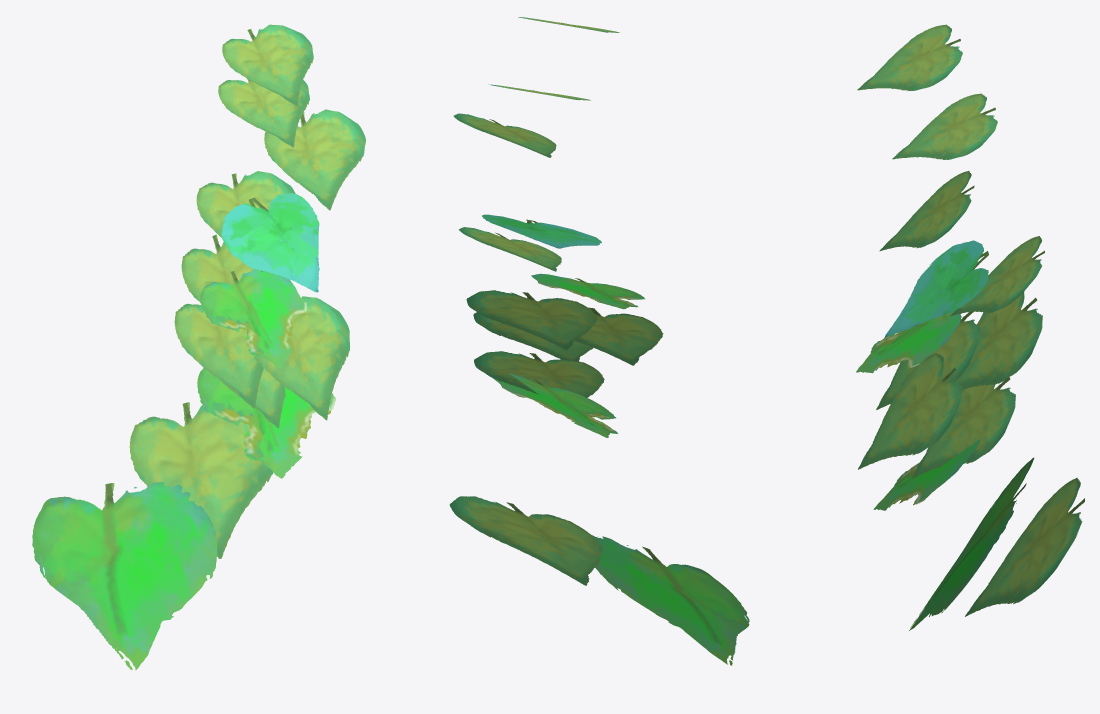
The model's file is IVY02.fbx.
3 views of the same model, side by side, from view 1: azimuth 30°, elevation 25°; view 2: azimuth 150°, elevation 25°; view 3: azimuth 270°, elevation 25° (orthographic). The views are drawn at different scales.
Parts seen in each view (by area): view 1: IvyLeaf.002; view 2: IvyLeaf.002; view 3: IvyLeaf.002.
Boxes of the visible parts, bbox=[...] form: IvyLeaf.002: bbox=[32, 24, 365, 670]; IvyLeaf.002: bbox=[449, 17, 749, 665]; IvyLeaf.002: bbox=[856, 24, 1084, 630].
Bounding box in the file's own units: 426 × 756 × 251.
